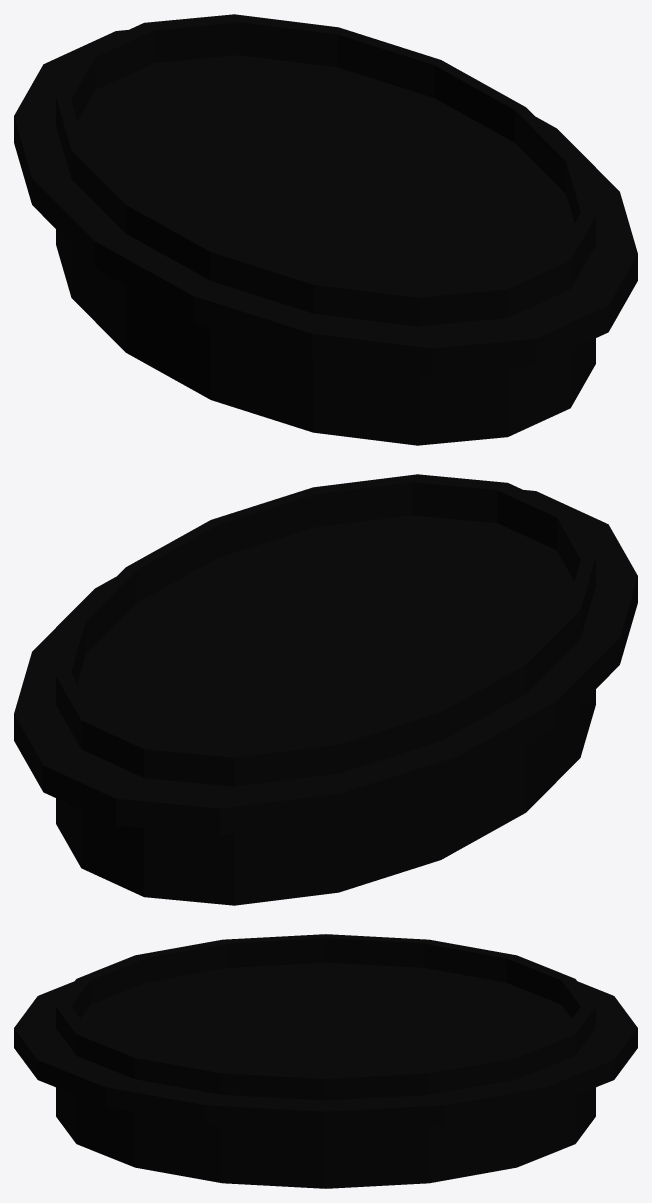
3 views of the same model, one above another, from view 1: azimuth 30°, elevation 25°; view 2: azimuth 150°, elevation 25°; view 3: azimuth 270°, elevation 25° (orthographic). The views are drawn at different scales.
Visible parts, largest first — view 1: Circle.002; view 2: Circle.002; view 3: Circle.002.
Boxes of the visible parts, x1=… form: Circle.002: x1=14, y1=14, x2=637, y2=445; Circle.002: x1=14, y1=474, x2=637, y2=905; Circle.002: x1=14, y1=934, x2=637, y2=1188.
Size of the model in its own units: 2099 by 642 by 3307.
1 material, 1 textured.
